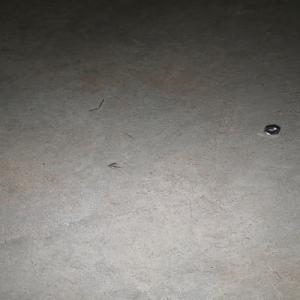Nut: (261, 123, 279, 134)
